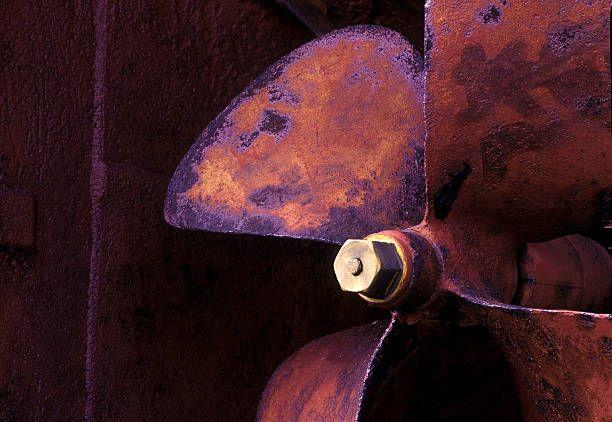metal: (155, 0, 612, 422)
